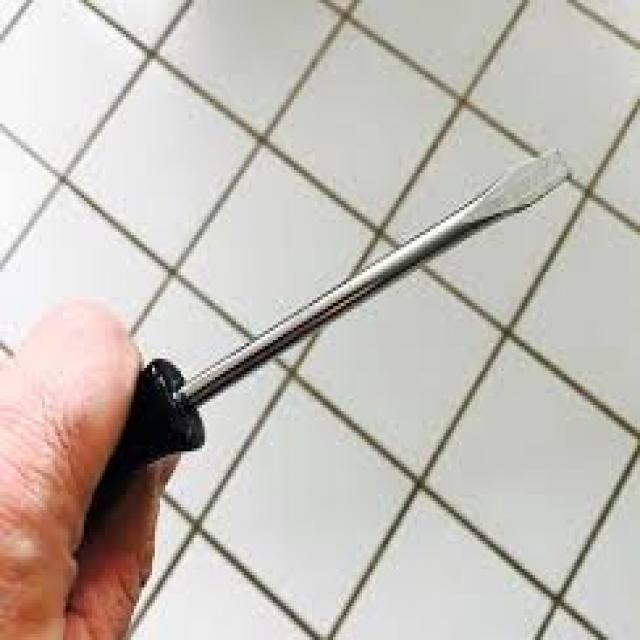screwdriver: (64, 140, 581, 522)
